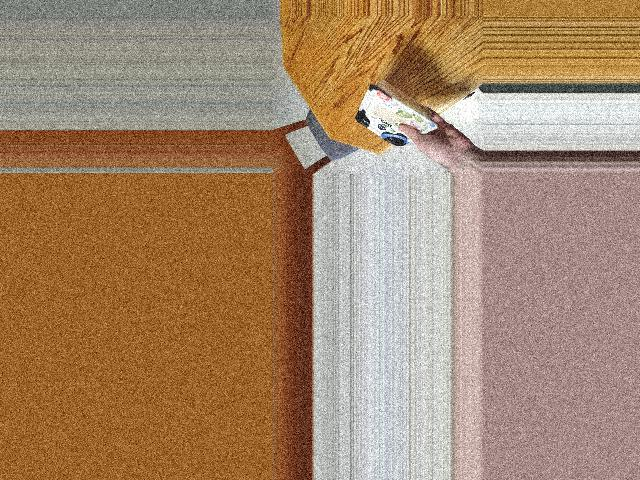cheese: (350, 67, 431, 148)
